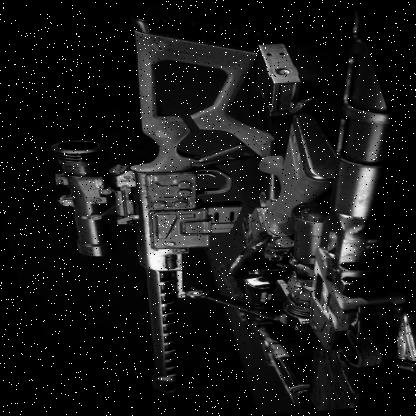rifle: (20, 14, 366, 394)
